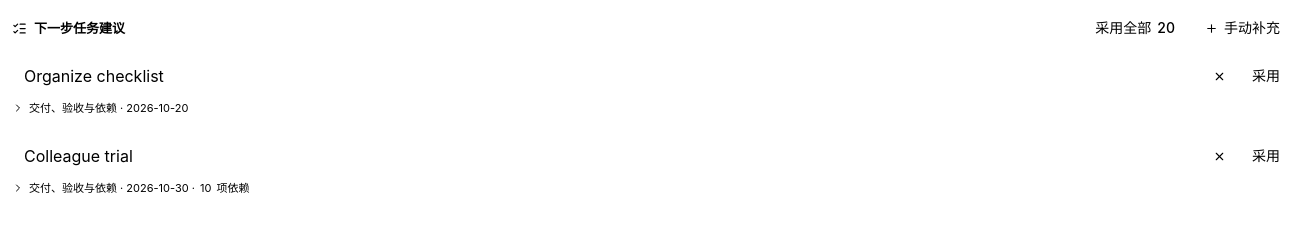
Goal assistant boundaries › keeps suggestions outside business Tasks until adoption and allows prerequisite adoption together
Click the 2nd button "采用". click: (1266, 156)
box: top-left (1240, 140), bottom-right (1292, 172)
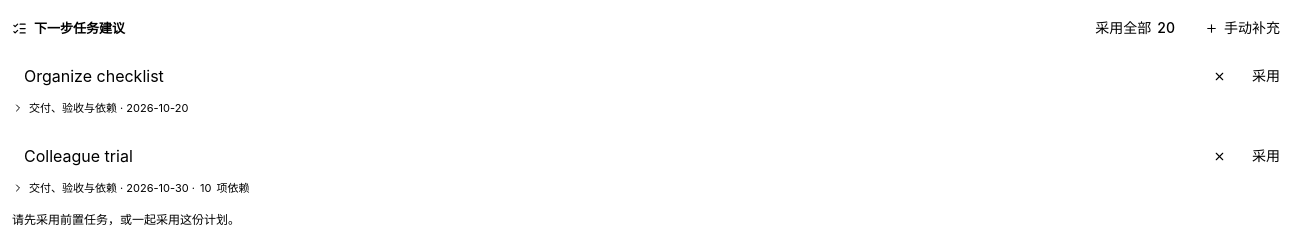
expect the message shows "先采用前置任务": met, box top-left (12, 212), bottom-right (240, 227)
Replace the text in the field named "任务建议名称：p1" with "Checklist task revised by the user". click: (604, 76)
box: top-left (12, 58), bottom-right (1195, 94)
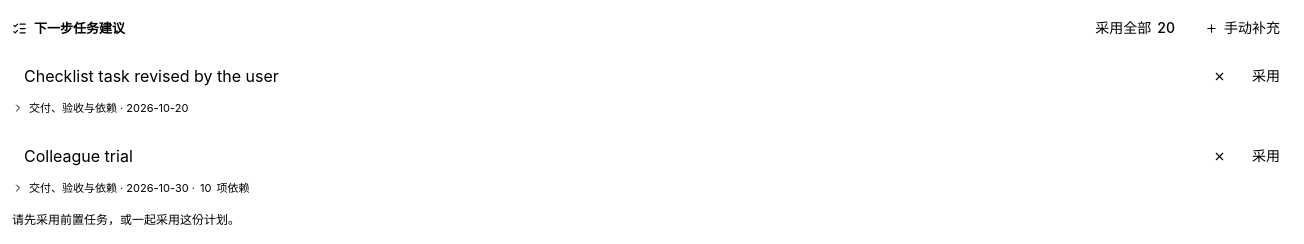
Click the button "采用全部 20". click: (1135, 28)
box: top-left (1083, 12), bottom-right (1187, 44)
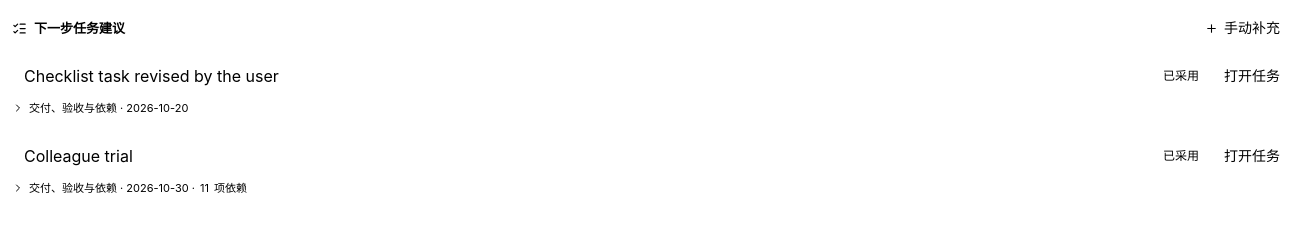
expect the button "采用全部 2" is gone: met
